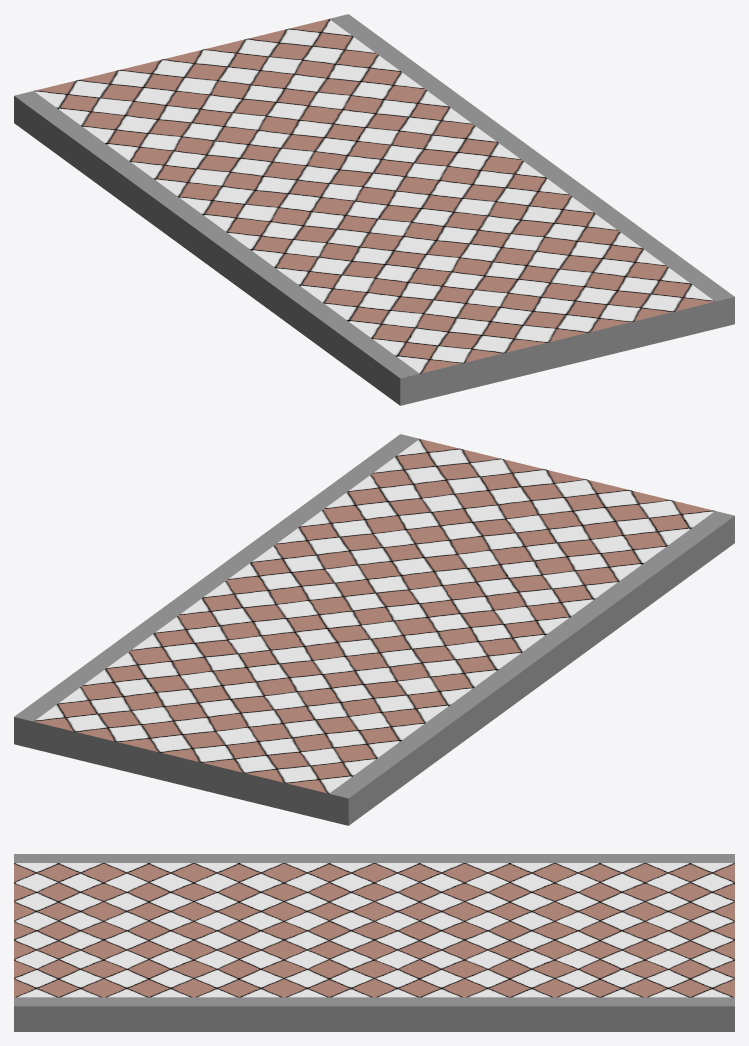
The model's file is flatchunk.fbx.
3 renders of one model, top to bottom at view 1: azimuth 30°, elevation 25°; view 2: azimuth 150°, elevation 25°; view 3: azimuth 270°, elevation 25°, orthographic. The views are drawn at different scales.
Visible parts, largest first — view 1: flatchunk; view 2: flatchunk; view 3: flatchunk.
Part boxes in pixels (x1,y1,x2,y2): flatchunk: (14,14,734,405); flatchunk: (14,434,734,825); flatchunk: (14,854,734,1031).
Bounding box in the file's own units: 64 × 128 × 5.01.
